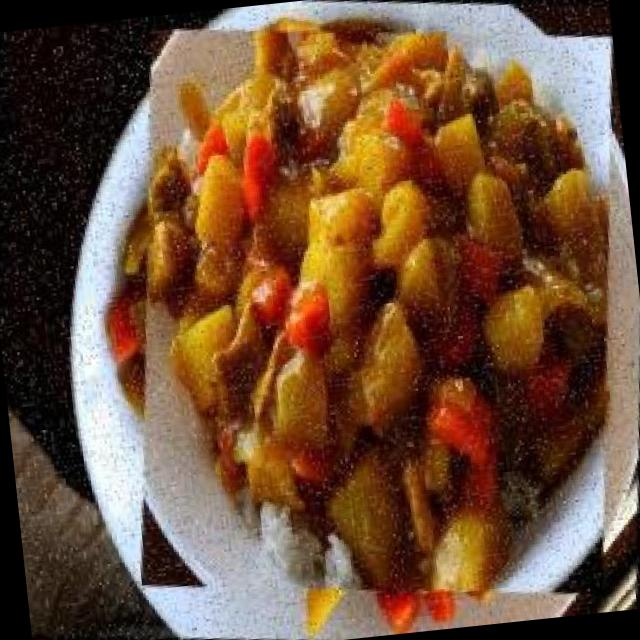curry: (81, 0, 640, 640)
